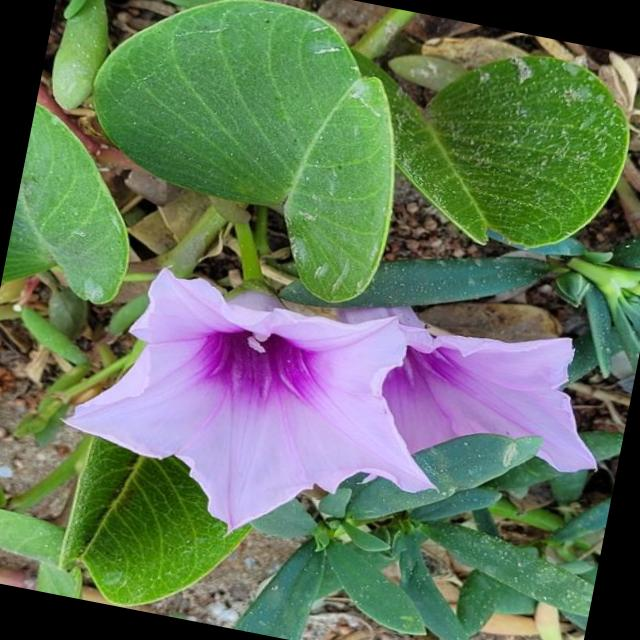ipomoea: (41, 241, 621, 603)
